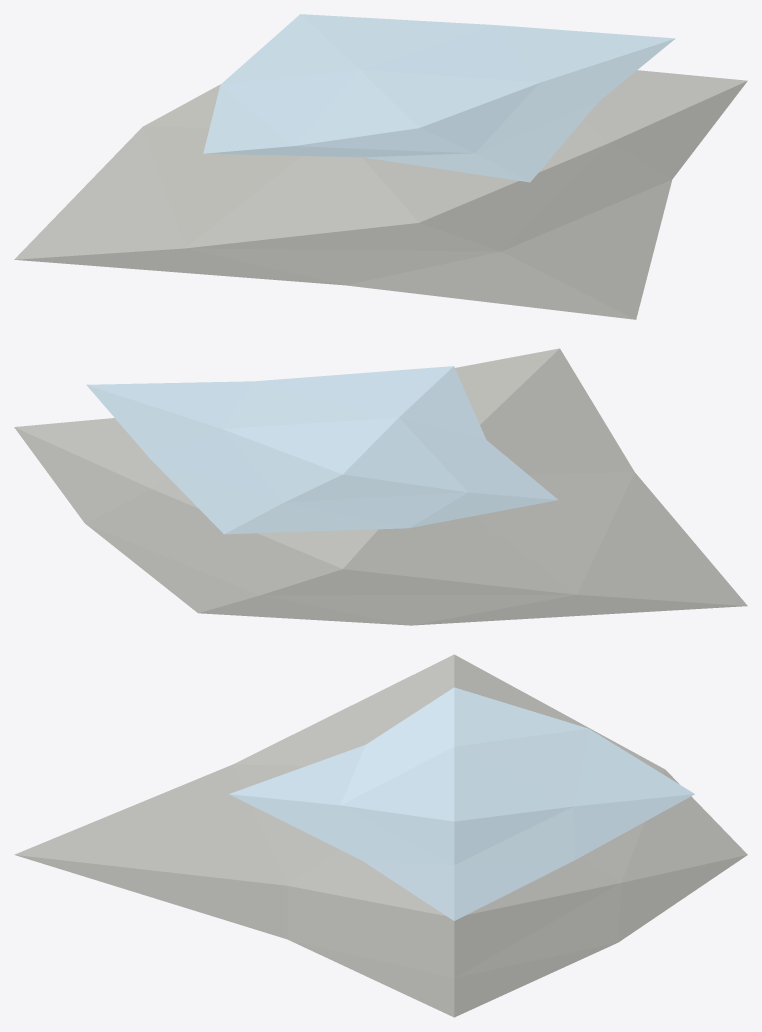
Rendered from puddle_stone_v22.glb.
3 renders of one model, top to bottom at view 1: azimuth 30°, elevation 25°; view 2: azimuth 150°, elevation 25°; view 3: azimuth 270°, elevation 25°, orthographic.
Parts seen in each view (by area): view 1: lod0; view 2: lod0; view 3: lod0.
Part boxes in pixels (left/top/right/bottom): lod0: left=14, top=14, right=747, bottom=319; lod0: left=14, top=348, right=747, bottom=625; lod0: left=14, top=654, right=747, bottom=1017.
Size of what is drawn, in the model's own units: 0.898 by 0.1693 by 0.767.
